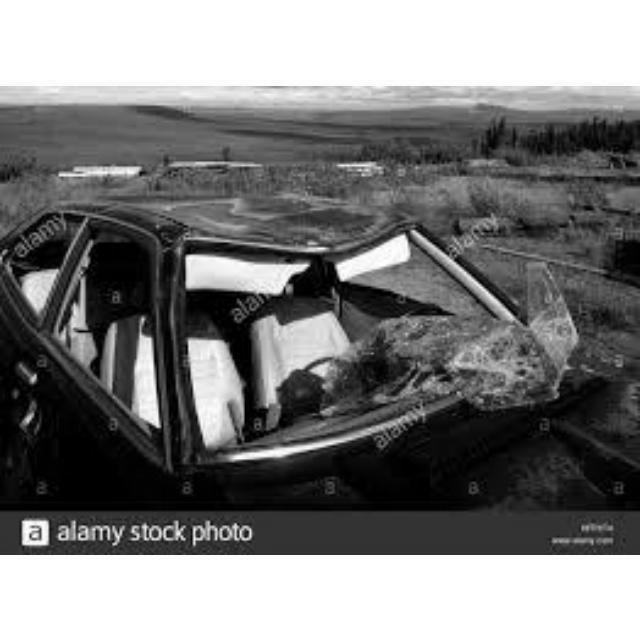Front-windscreen-damage: (188, 232, 544, 434)
roof-dent: (32, 184, 422, 249)
